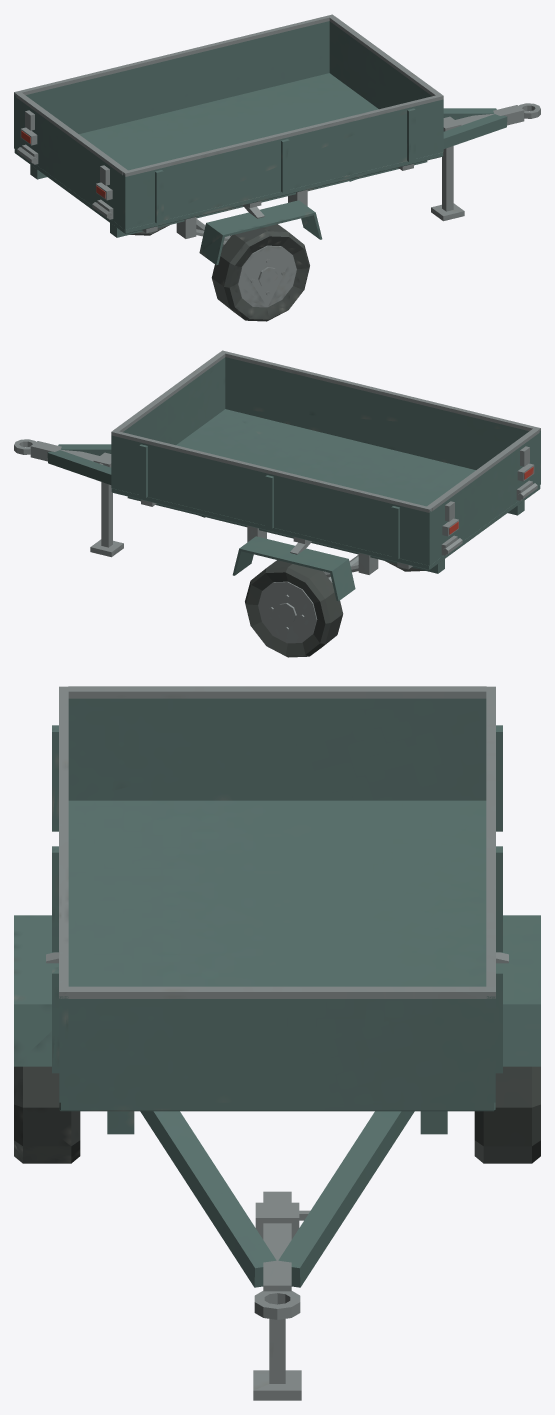
The model's file is farmland_farm_trailer_empty.glb.
3 renders of one model, top to bottom at view 1: azimuth 30°, elevation 25°; view 2: azimuth 150°, elevation 25°; view 3: azimuth 270°, elevation 25°, orthographic. The views are drawn at different scales.
Visible parts, largest first — view 1: FarmTrailerEmpty; view 2: FarmTrailerEmpty; view 3: FarmTrailerEmpty.
Part boxes in pixels (bbox=[...]): FarmTrailerEmpty: bbox=[14, 14, 540, 321]; FarmTrailerEmpty: bbox=[14, 350, 540, 657]; FarmTrailerEmpty: bbox=[14, 686, 540, 1400].
Size of what is drawn, in the model's own units: 3.6 by 1.25 by 1.75.
Materials: 1 (1 with a texture image).
